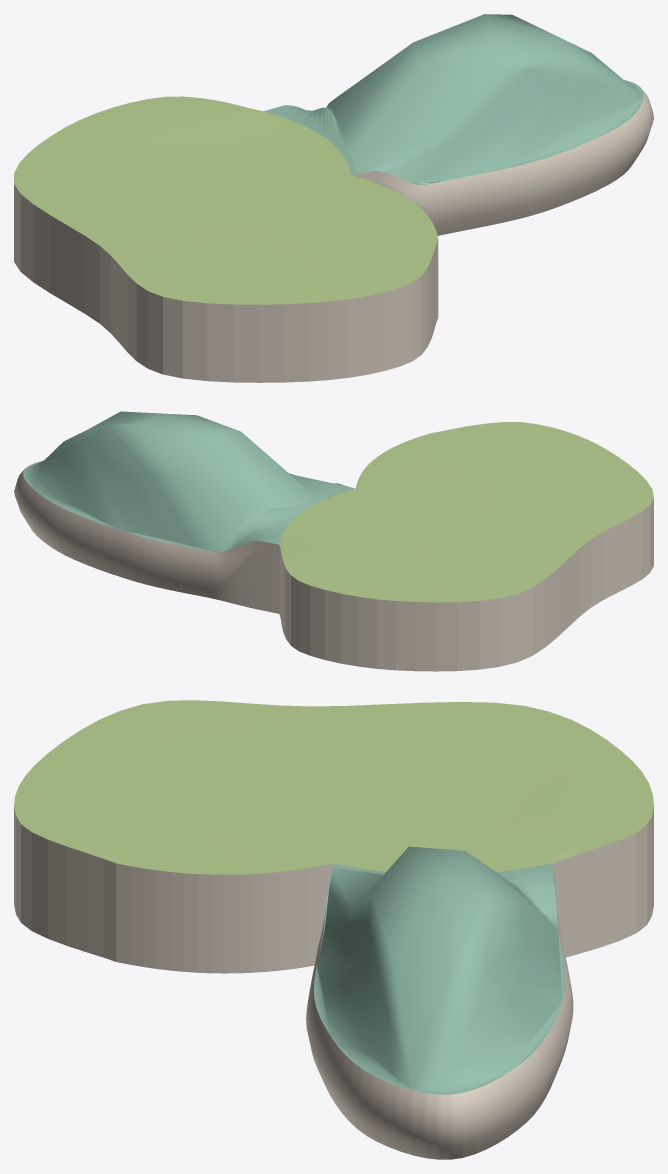
Rendered from seaward-source.glb.
3 views of the same model, one above another, from view 1: azimuth 30°, elevation 25°; view 2: azimuth 150°, elevation 25°; view 3: azimuth 270°, elevation 25° (orthographic). The views are drawn at different scales.
Visible parts, largest first — view 1: baseline/top, seaward/top, baseline/rounded-coast, seaward/rounded-coast; view 2: baseline/top, seaward/top, baseline/rounded-coast, seaward/rounded-coast; view 3: baseline/top, seaward/top, baseline/bank-north-seam, baseline/rounded-coast, seaward/rounded-coast.
Part boxes in pixels (x1,y1,x2,y2): baseline/top: (14,96,437,304); seaward/top: (264,14,643,184); baseline/rounded-coast: (14,184,438,382); seaward/rounded-coast: (351,88,653,235); baseline/top: (279,422,653,602); seaward/top: (23,411,355,552); baseline/rounded-coast: (279,498,653,671); seaward/rounded-coast: (14,469,279,613); baseline/top: (14,700,653,874); seaward/top: (313,846,565,1094); baseline/bank-north-seam: (116,863,333,973); baseline/rounded-coast: (14,806,653,961); seaward/rounded-coast: (306,899,573,1159).
Size of the model in its own units: 8.1 by 1.88 by 5.88.
